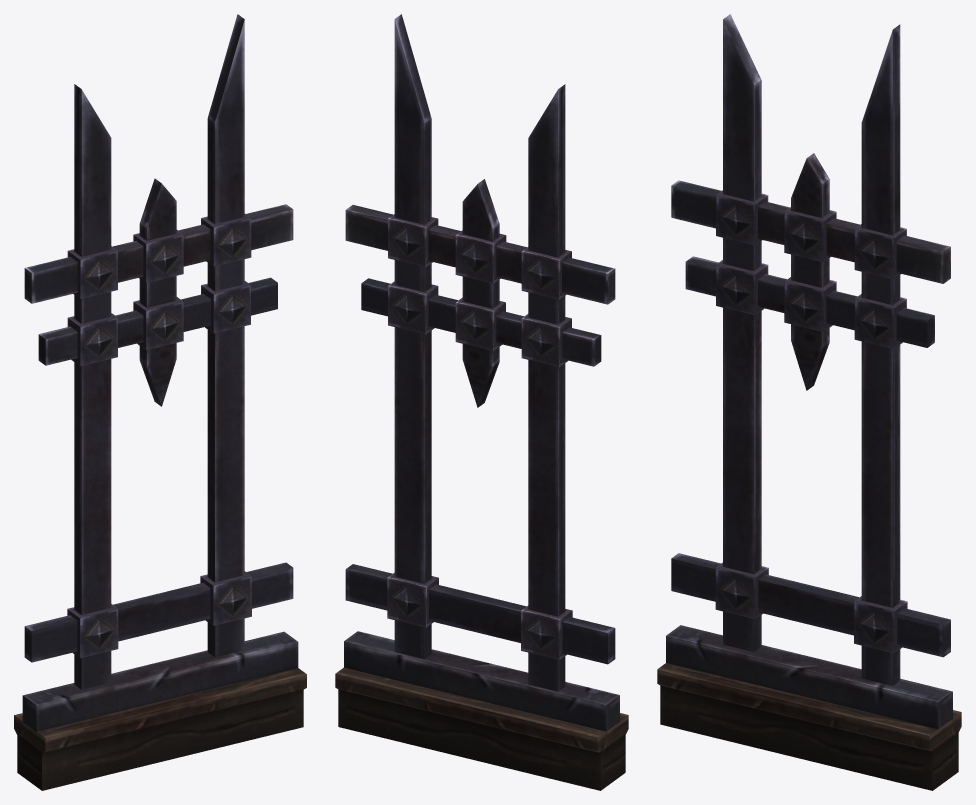
The model's file is B_zhalan001.fbx.
3 renders of one model, left to right at view 1: azimuth 30°, elevation 25°; view 2: azimuth 150°, elevation 25°; view 3: azimuth 330°, elevation 25°, orthographic. The views are drawn at different scales.
Parts seen in each view (by area): view 1: B_zhalan001; view 2: B_zhalan001; view 3: B_zhalan001.
Boxes of the visible parts, x1=… form: B_zhalan001: x1=14, y1=14, x2=306, y2=790; B_zhalan001: x1=335, y1=14, x2=628, y2=790; B_zhalan001: x1=657, y1=14, x2=961, y2=790.
Size of the model in its own units: 100 by 261 by 20.69.
